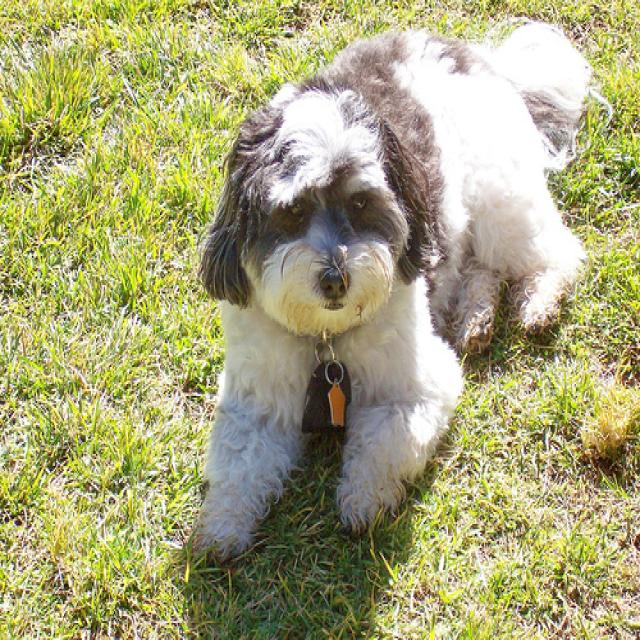dog-havanese: (191, 15, 594, 556)
